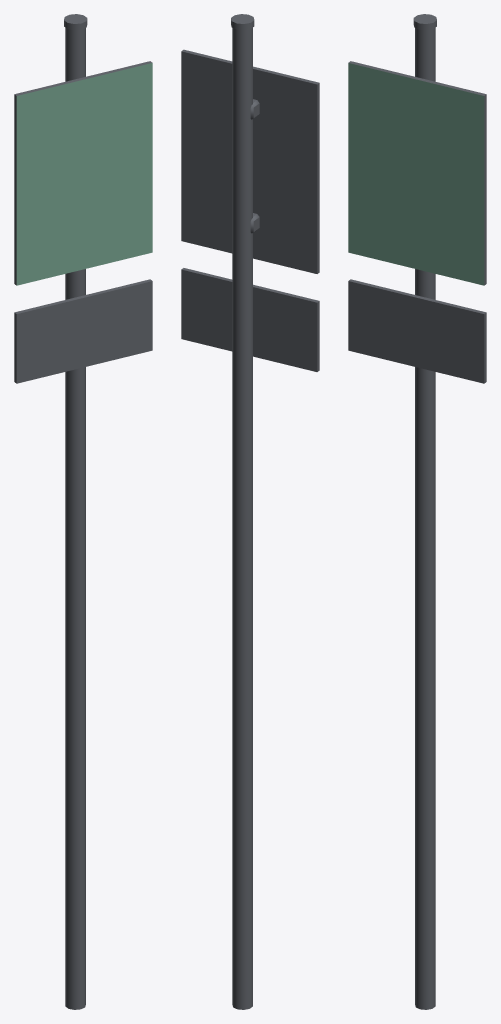
Rendered from BusStopSign.fbx.
The picture shows the model from 3 angles, left to right: view 1: azimuth 30°, elevation 25°; view 2: azimuth 150°, elevation 25°; view 3: azimuth 330°, elevation 25°; orthographic projection.
Visible parts, largest first — view 1: BusStopSign; view 2: BusStopSign; view 3: BusStopSign.
Part boxes in pixels (x1,y1,x2,y2): BusStopSign: [14, 14, 152, 1009]; BusStopSign: [181, 14, 319, 1009]; BusStopSign: [348, 14, 486, 1009].
Size of the model in its own units: 0.45 by 3.12 by 0.0865.
